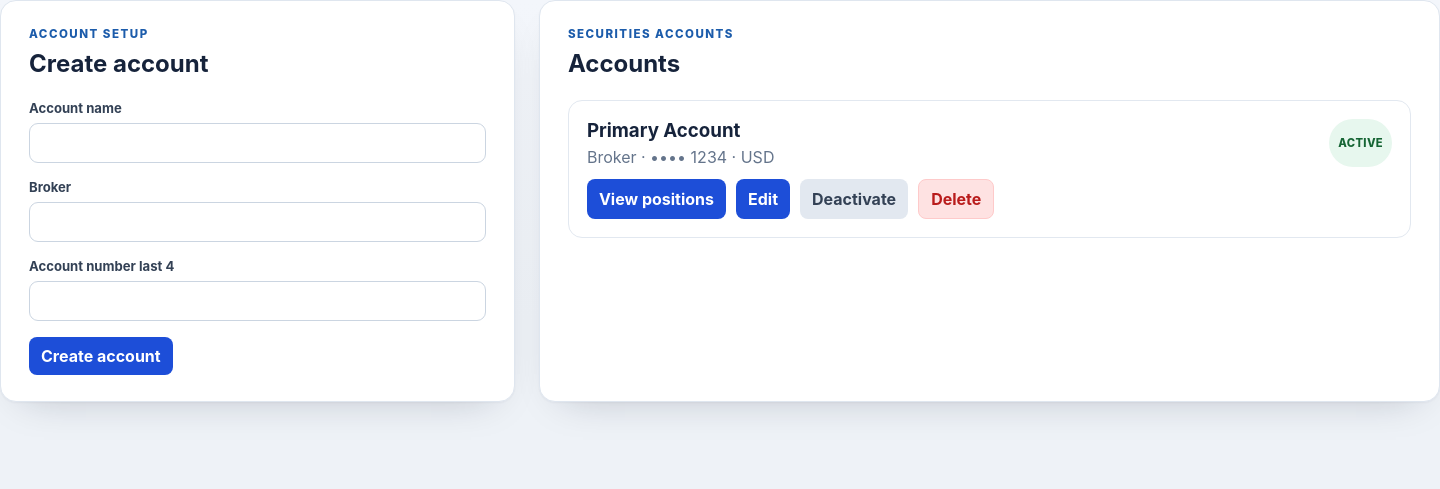
Accounts page › creates, deactivates, and reactivates an account
Expected: the heading "Primary Account" is shown, [587,119,740,142]
Type "Taxable" into the field labelled "Account name" at x=257, y=143, box [29,123,486,163]
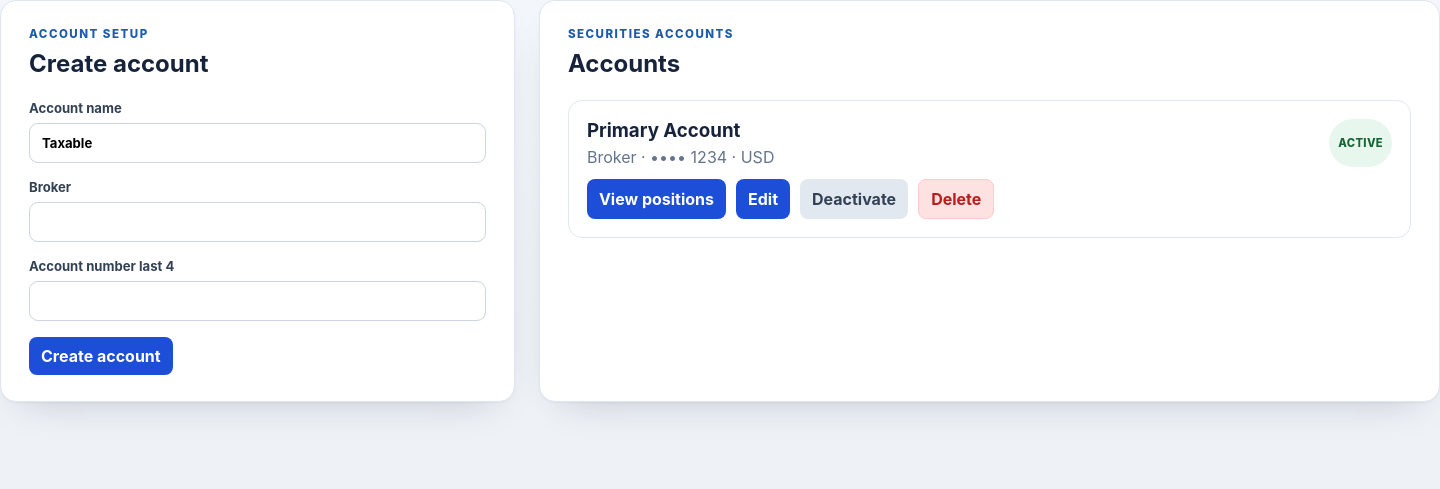
Type "IBKR" into the field labelled "Broker" at x=257, y=222, box [29,202,486,242]
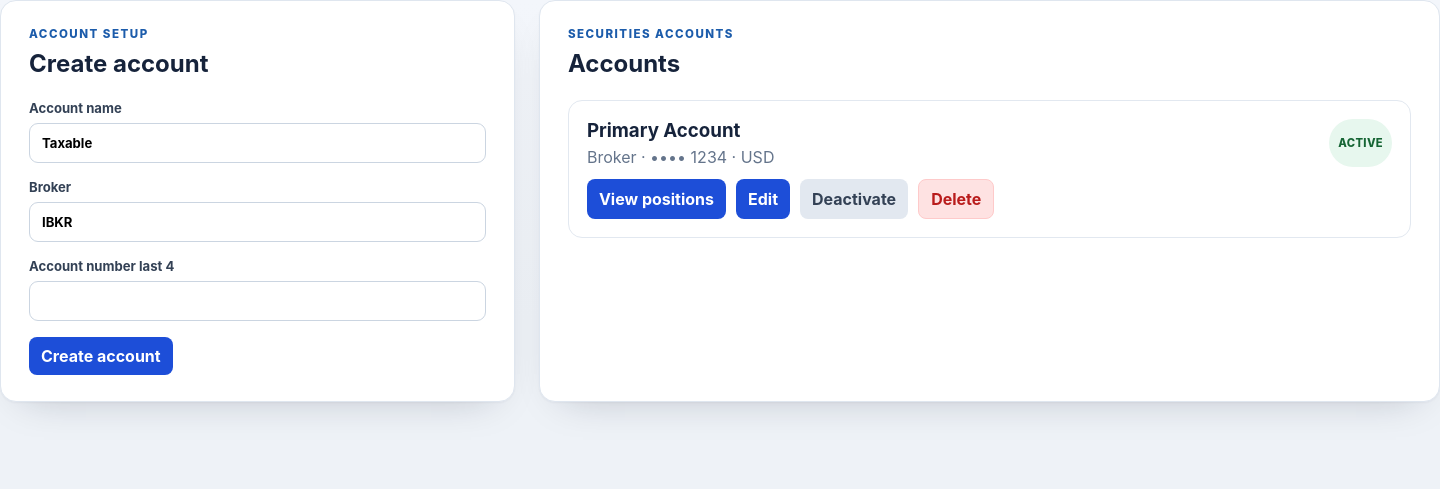
Type "1234" into the field labelled "Account number last 4" at x=257, y=301, box [29,281,486,321]
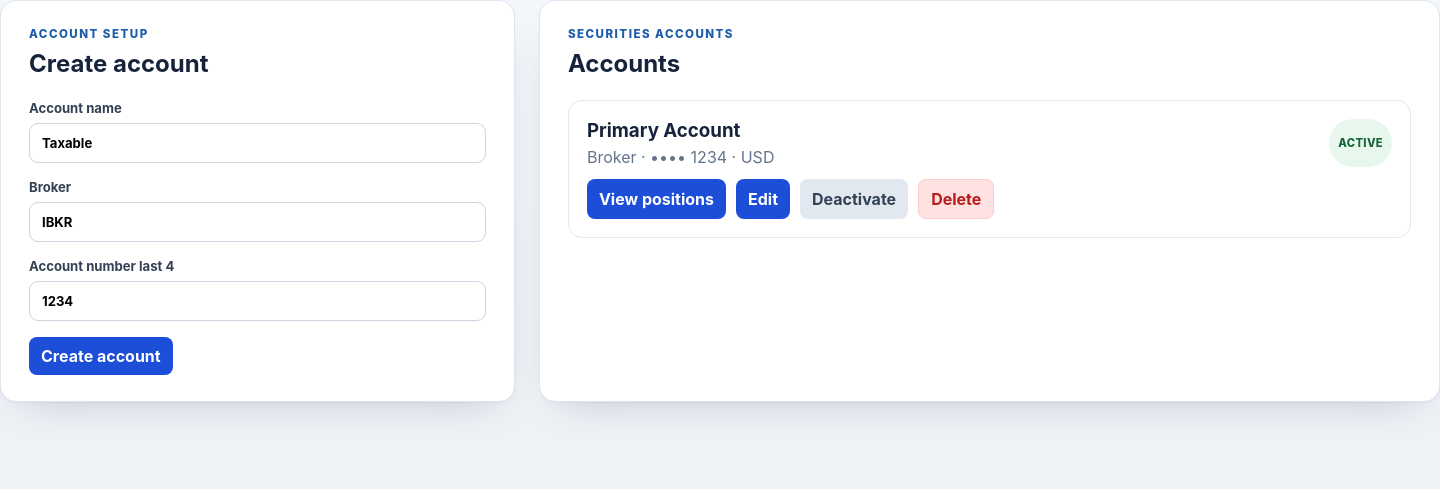
Click the button "Create account" at x=101, y=356, box [29,337,173,375]
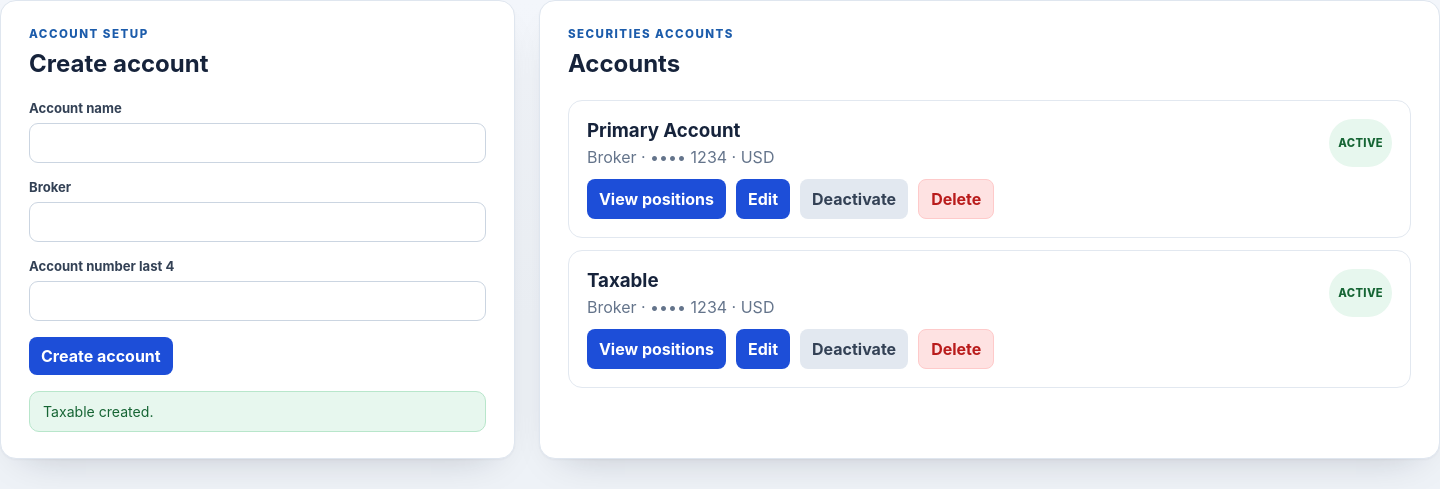
Now the text "Taxable created." is shown, box [29,391,486,432]
Now the heading "Taxable" is shown, box [587,269,659,292]
Click the 2nd button "Deactivate" at x=854, y=349, box [800,329,908,369]
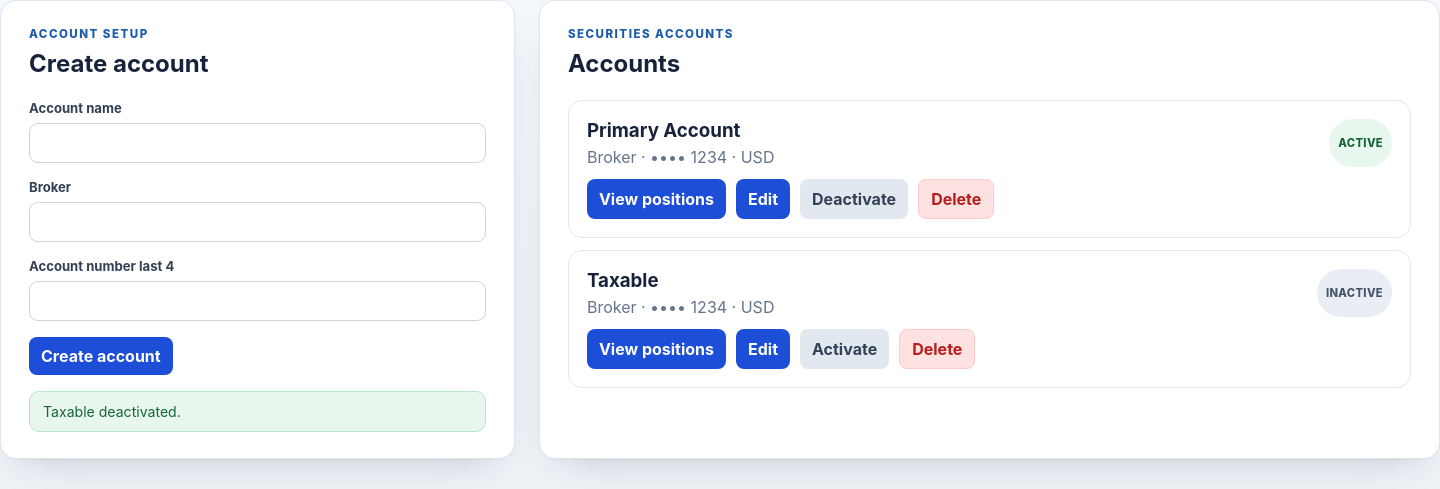
Now the text "Taxable deactivated." is shown, box [29,391,486,432]
Now the text "Taxable" shows "INACTIVE", box [1326,286,1383,300]
Click the button "Activate" at x=845, y=349, box [800,329,889,369]
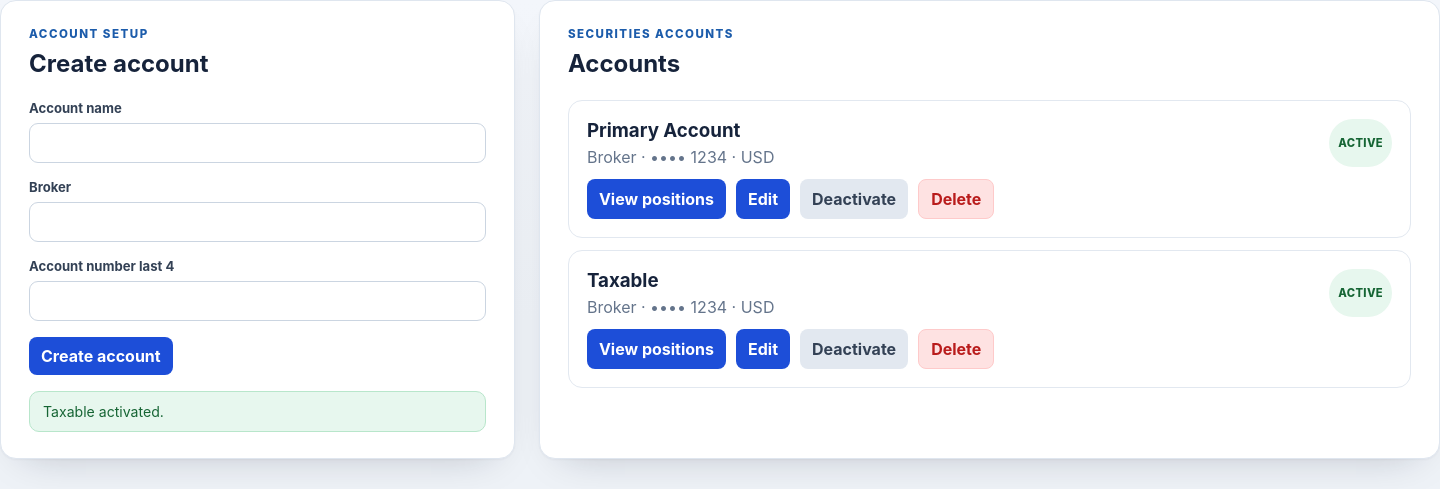
Now the text "Taxable activated." is shown, box [29,391,486,432]
